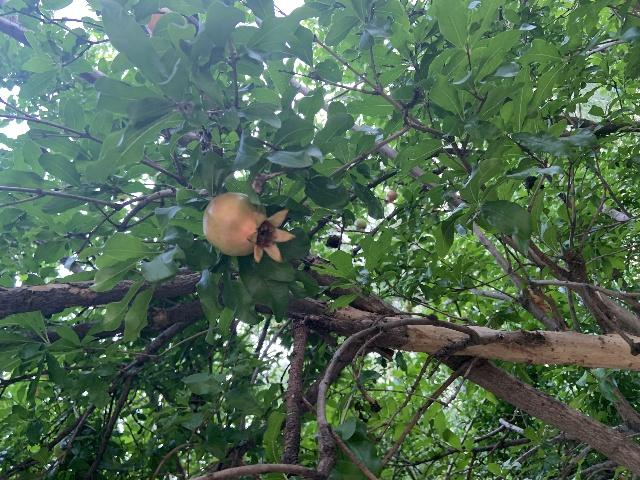mid-growth: (202, 192, 295, 263), (354, 218, 366, 230)
ripe: (384, 190, 397, 203)
